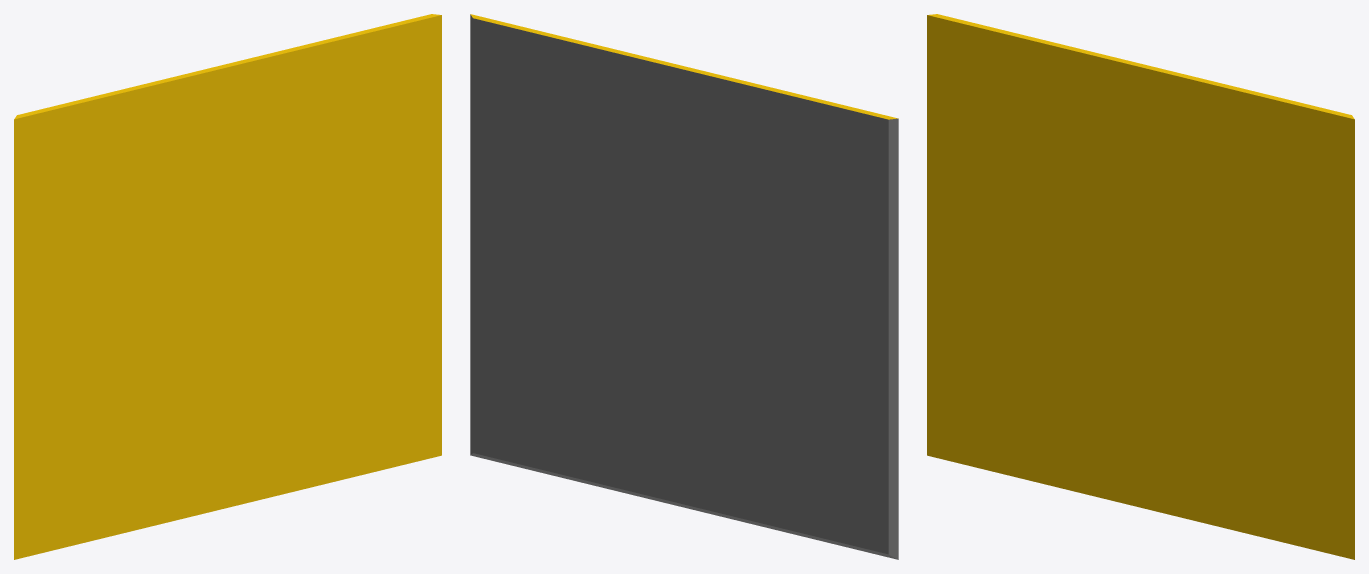
File: BoxWall4.dae
3 renders of one model, left to right at view 1: azimuth 30°, elevation 25°; view 2: azimuth 150°, elevation 25°; view 3: azimuth 330°, elevation 25°, orthographic.
Visible parts, largest first — view 1: BoxWall4; view 2: BoxWall4; view 3: BoxWall4.
Part boxes in pixels (<box>): BoxWall4: <box>14,14,441,559</box>; BoxWall4: <box>470,14,898,559</box>; BoxWall4: <box>927,14,1354,559</box>.
Bounding box in the file's own units: 0.3403 × 0.005 × 0.335.
